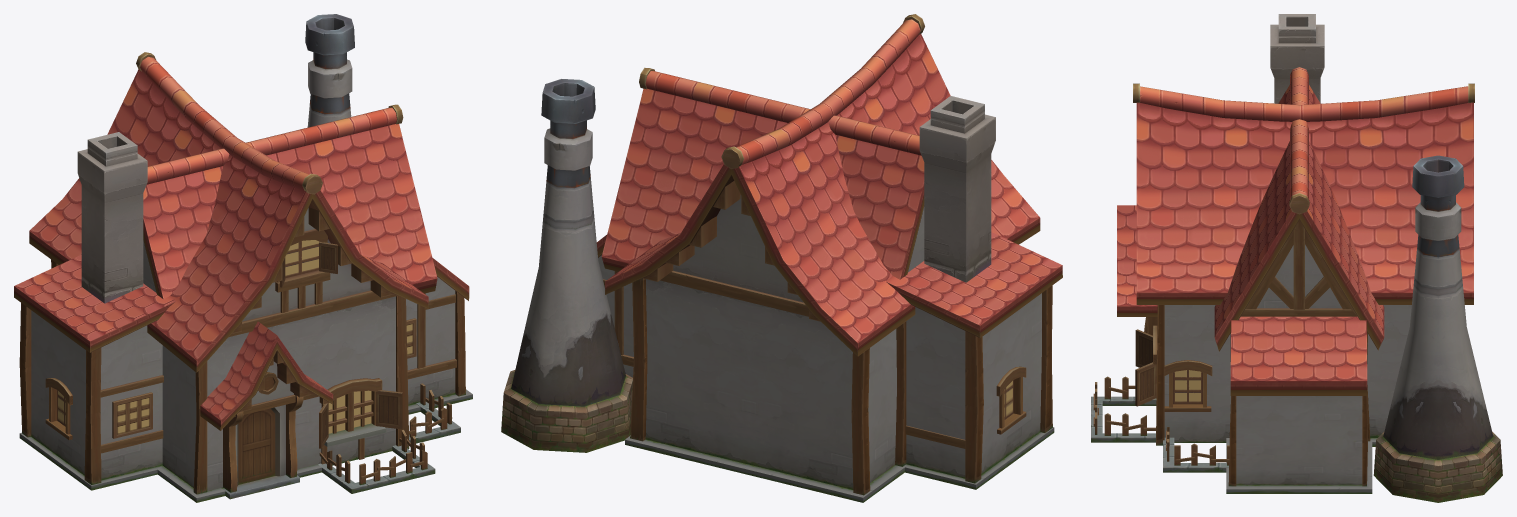
File: scene_lawennushandao_building02.FBX
3 renders of one model, left to right at view 1: azimuth 30°, elevation 25°; view 2: azimuth 150°, elevation 25°; view 3: azimuth 270°, elevation 25°, orthographic. The views are drawn at different scales.
Parts seen in each view (by area): view 1: scene_lawennushandao_building02; view 2: scene_lawennushandao_building02; view 3: scene_lawennushandao_building02.
Part boxes in pixels (x1,y1,x2,y2): scene_lawennushandao_building02: (14, 14, 472, 502); scene_lawennushandao_building02: (501, 14, 1062, 502); scene_lawennushandao_building02: (1091, 14, 1502, 502).
Bounding box in the file's own units: 1085 × 799 × 954.
